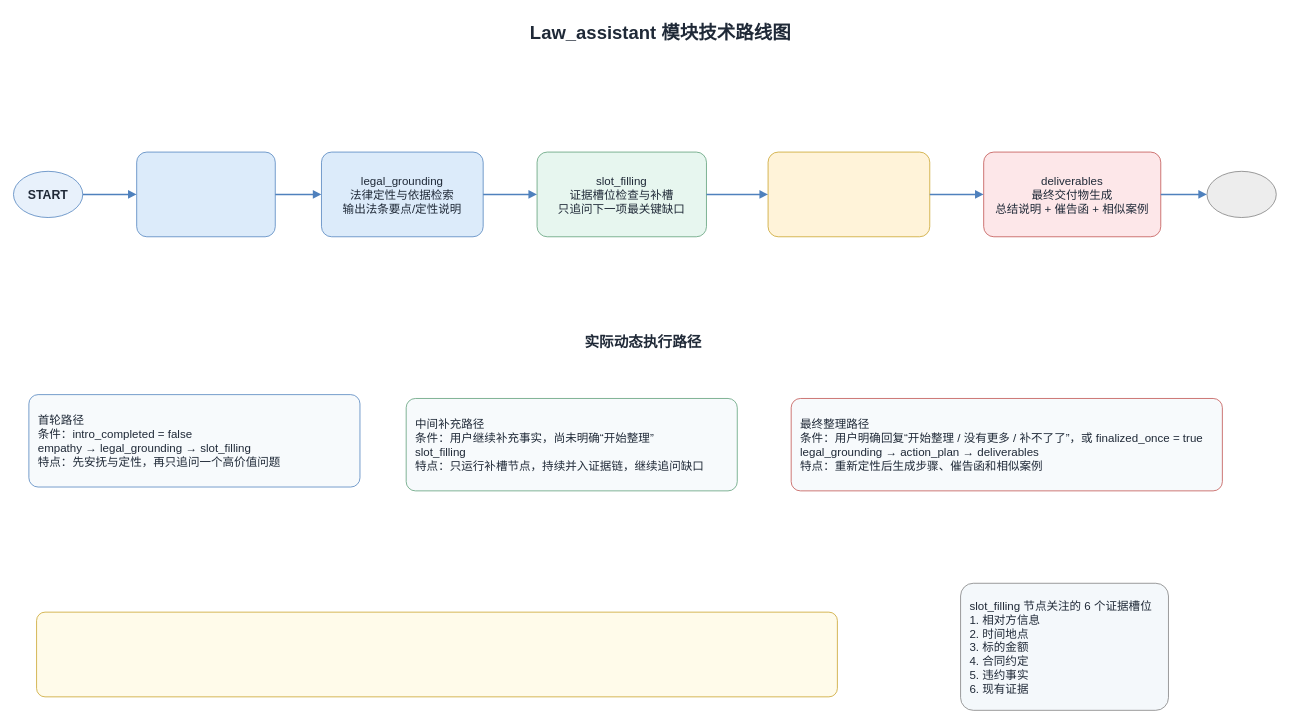
The diagram is 1290 pixels wide and 724 high, and some of its shapes have lost their labels. Here are the shapes that lost their labels. From the top down, the box of each, then its label:
(136, 151, 275, 237): empathy 情绪安抚与接案 生成第一句安抚回复
(767, 151, 930, 237): action_plan 生成维权步骤 SOP 结合证据缺口给出行动建议
(1206, 171, 1276, 218): END
(36, 611, 837, 697): 说明 该模块虽然定义了 5 节点串联骨架，但并非每轮都走完整图。 系统会根据当前状态动态选择执行链，核心目标是：先收集关键事实，再生成最终维权交付物。
